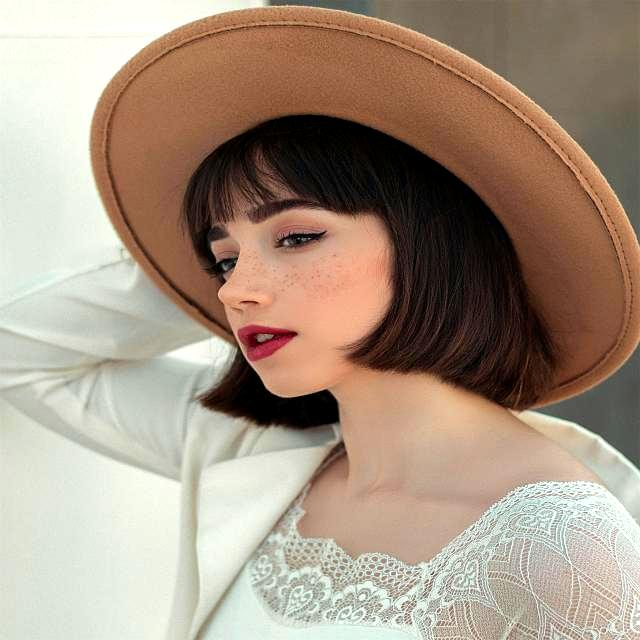no_hard_hat: (92, 7, 638, 345)
person: (3, 115, 640, 640)
